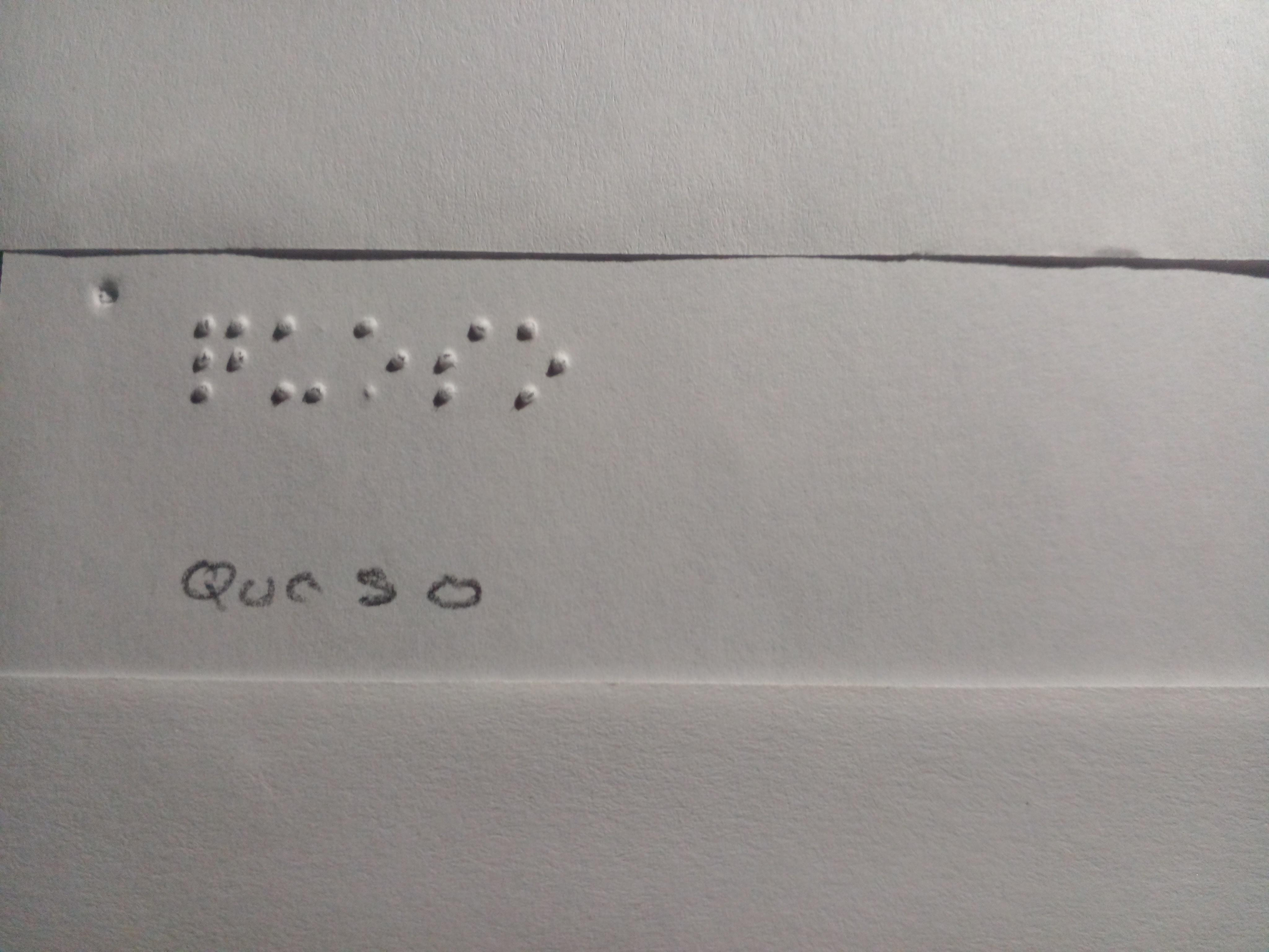e: (345, 307, 420, 381)
o: (508, 311, 584, 417)
q: (187, 304, 251, 411)
s: (429, 305, 494, 414)
u: (265, 313, 338, 408)
